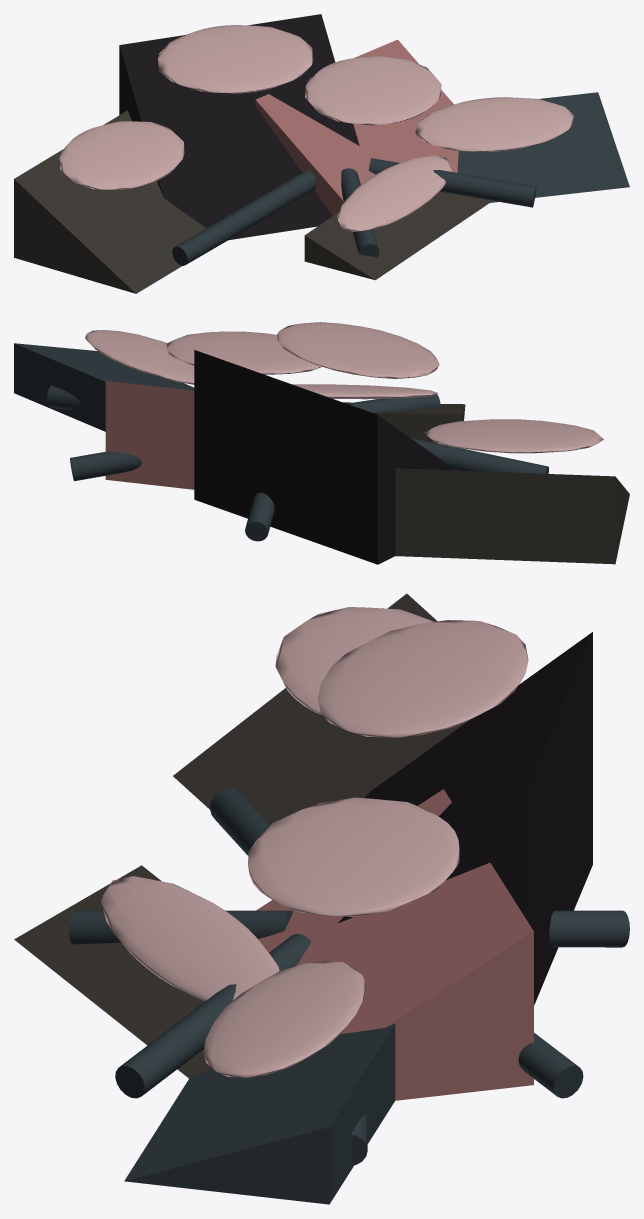
The model's file is CMU3DCMUXenoEggNotDSNaturalFinalCloudDestroyedStudy.glb.
The picture shows the model from 3 angles, top to bottom: view 1: azimuth 30°, elevation 25°; view 2: azimuth 150°, elevation 25°; view 3: azimuth 270°, elevation 25°; orthographic projection. The views are drawn at different scales.
Visible parts, largest first — view 1: destroyed shell shard 2, destroyed shell shard 1, destroyed shell shard 3, destroyed shell shard 4, exposed torn pink inner shell 2, exposed torn pink inner shell 3, exposed torn pink inner shell 1, destroyed shell shard 5, exposed torn pink inner shell 4, exposed torn pink inner shell 5, fallen attached shell root 5, fallen attached shell root 7 (+1 smaller); view 2: destroyed shell shard 2, destroyed shell shard 1, destroyed shell shard 3, destroyed shell shard 4, exposed torn pink inner shell 2, exposed torn pink inner shell 1, exposed torn pink inner shell 3, exposed torn pink inner shell 4, fallen attached shell root 5, destroyed shell shard 5, exposed torn pink inner shell 5, fallen attached shell root 2 (+3 smaller); view 3: destroyed shell shard 3, destroyed shell shard 2, destroyed shell shard 4, exposed torn pink inner shell 3, exposed torn pink inner shell 2, destroyed shell shard 1, exposed torn pink inner shell 5, exposed torn pink inner shell 4, destroyed shell shard 5, exposed torn pink inner shell 1, fallen attached shell root 7, fallen attached shell root 3 (+3 smaller).
Part boxes in pixels (<box>): destroyed shell shard 2: <box>119,14,359,240</box>; destroyed shell shard 1: <box>14,110,205,293</box>; destroyed shell shard 3: <box>255,39,458,215</box>; destroyed shell shard 4: <box>457,92,629,202</box>; exposed torn pink inner shell 2: <box>158,25,313,93</box>; exposed torn pink inner shell 3: <box>305,55,441,125</box>; exposed torn pink inner shell 1: <box>59,121,184,189</box>; destroyed shell shard 5: <box>304,191,489,280</box>; exposed torn pink inner shell 4: <box>415,97,574,151</box>; exposed torn pink inner shell 5: <box>337,155,451,231</box>; fallen attached shell root 5: <box>172,170,316,265</box>; fallen attached shell root 7: <box>368,158,536,207</box>; destroyed shell shard 2: <box>194,350,455,564</box>; destroyed shell shard 1: <box>395,468,629,564</box>; destroyed shell shard 3: <box>105,380,194,489</box>; destroyed shell shard 4: <box>14,343,194,431</box>; exposed torn pink inner shell 2: <box>276,322,439,378</box>; exposed torn pink inner shell 1: <box>424,419,603,453</box>; exposed torn pink inner shell 3: <box>166,331,321,374</box>; exposed torn pink inner shell 4: <box>85,330,194,384</box>; fallen attached shell root 5: <box>411,438,548,473</box>; destroyed shell shard 5: <box>343,402,465,443</box>; exposed torn pink inner shell 5: <box>292,384,438,399</box>; fallen attached shell root 2: <box>70,452,142,481</box>; destroyed shell shard 3: <box>256,789,533,1100</box>; destroyed shell shard 2: <box>337,632,592,1005</box>; destroyed shell shard 4: <box>124,1023,395,1204</box>; exposed torn pink inner shell 3: <box>248,797,459,916</box>; exposed torn pink inner shell 2: <box>318,620,528,737</box>; destroyed shell shard 1: <box>173,593,469,825</box>; exposed torn pink inner shell 5: <box>101,876,279,1001</box>; exposed torn pink inner shell 4: <box>203,961,366,1077</box>; destroyed shell shard 5: <box>14,865,211,1078</box>; exposed torn pink inner shell 1: <box>275,607,433,715</box>; fallen attached shell root 7: <box>115,933,311,1098</box>; fallen attached shell root 3: <box>549,910,629,947</box>.
Size of the model in its own units: 0.7608 by 0.193 by 0.4172.
